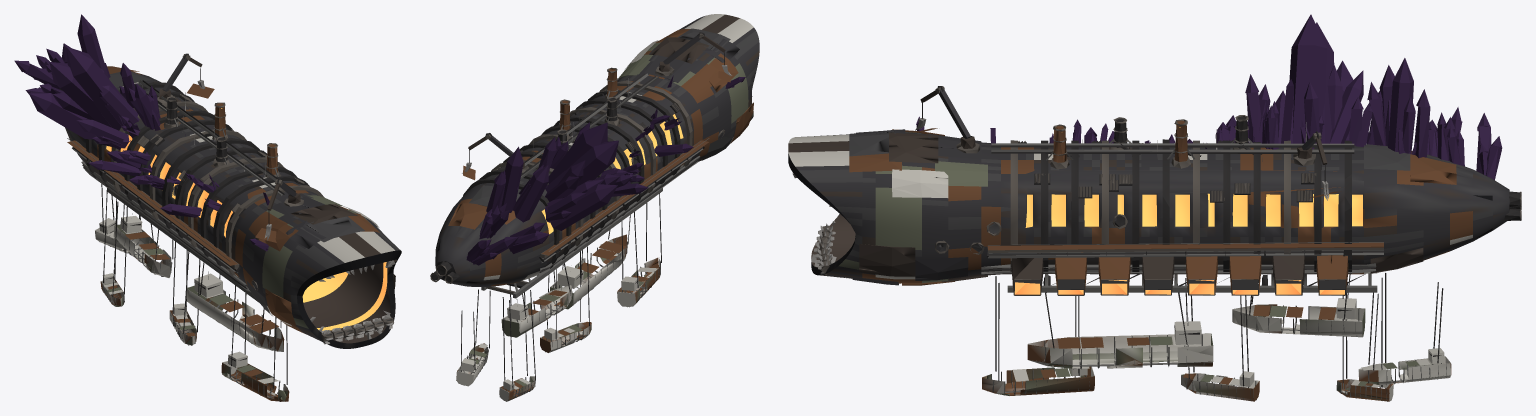
File: Ferrox_BienenstockFern.glb
The picture shows the model from 3 angles, left to right: view 1: azimuth 30°, elevation 25°; view 2: azimuth 150°, elevation 25°; view 3: azimuth 270°, elevation 25°; orthographic projection. The views are drawn at different scales.
Visible parts, largest first — view 1: Ferrox_BienenstockFern; view 2: Ferrox_BienenstockFern; view 3: Ferrox_BienenstockFern.
Boxes of the visible parts, x1,y1,x2,y2 form: Ferrox_BienenstockFern: [14, 14, 401, 401]; Ferrox_BienenstockFern: [430, 14, 759, 401]; Ferrox_BienenstockFern: [788, 14, 1521, 401].
Bounding box in the file's own units: 146 × 218 × 422.
